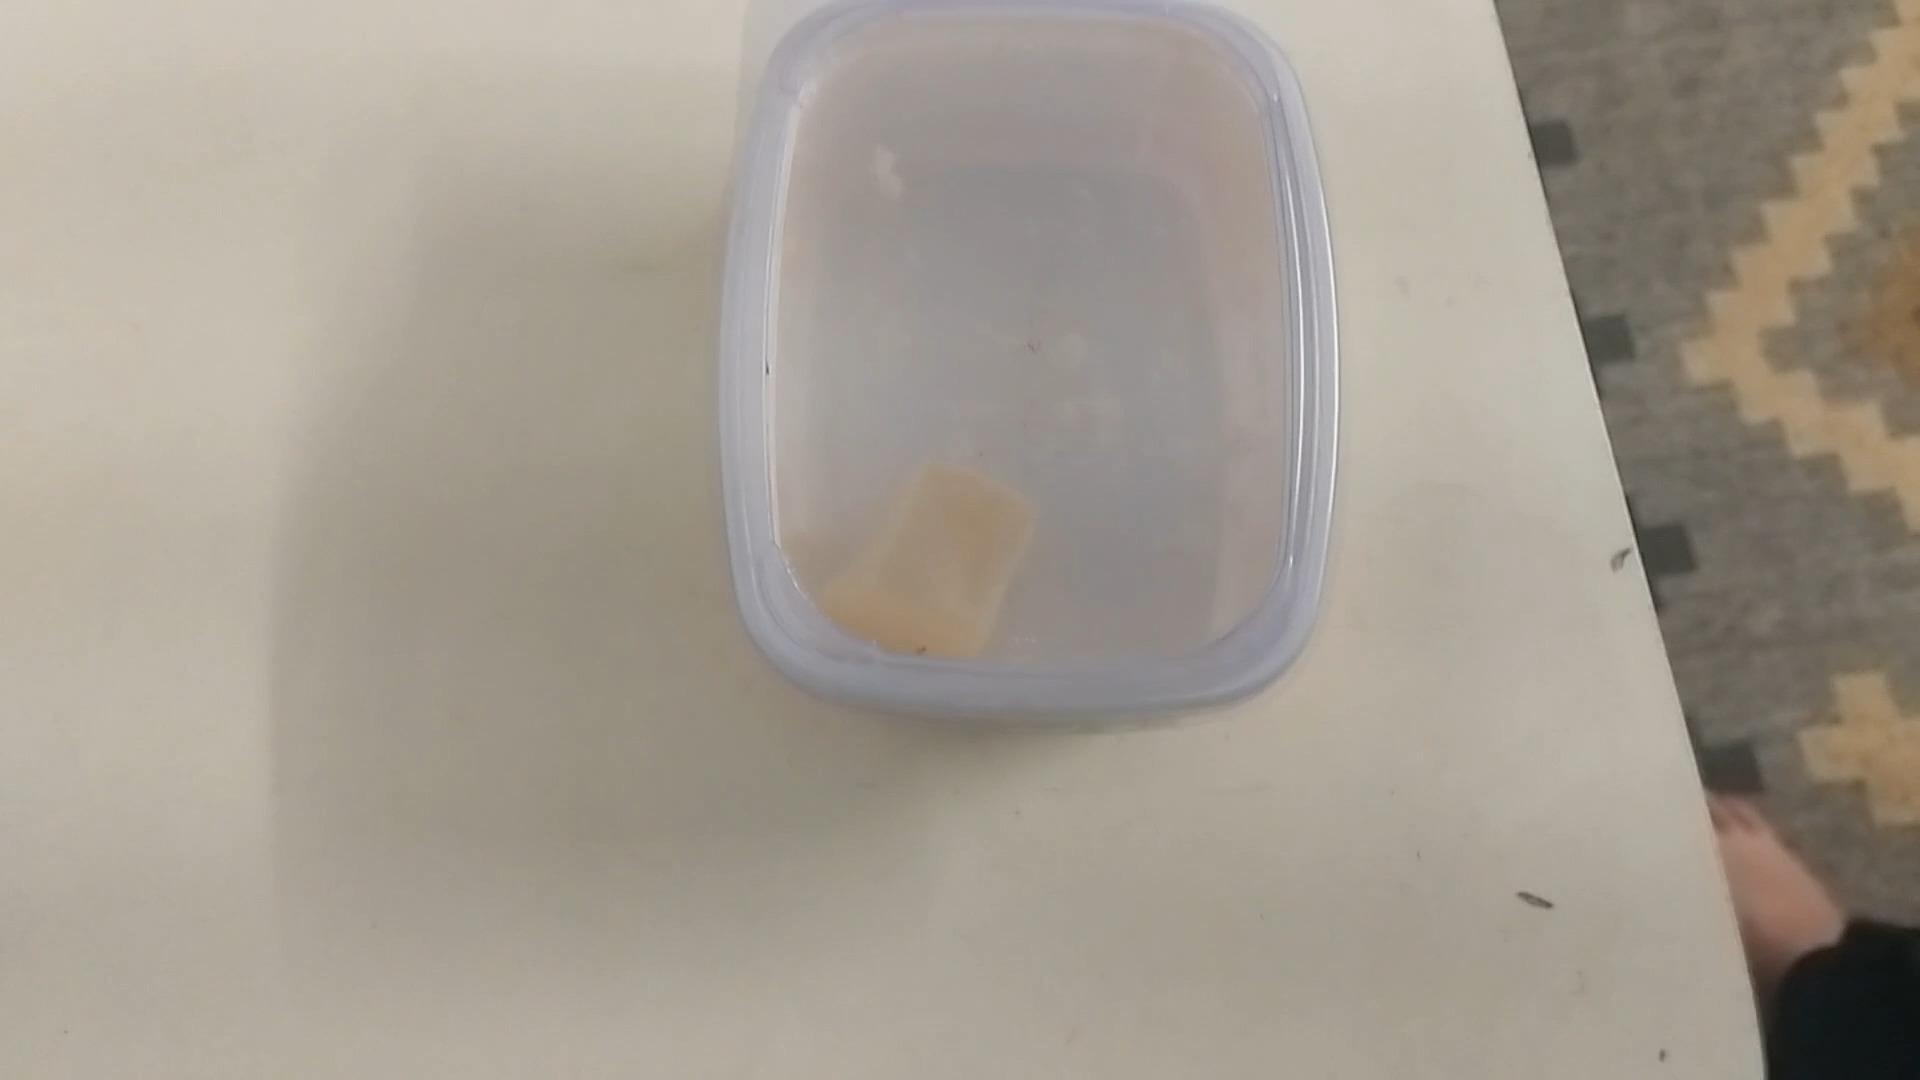butter: (728, 1, 1324, 722)
